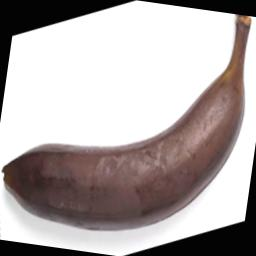Banana Rotten: (0, 4, 256, 256)
